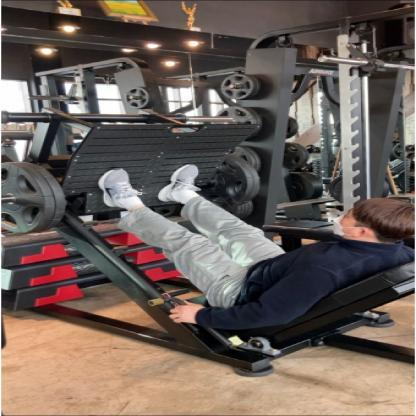leg press: (0, 87, 416, 416)
